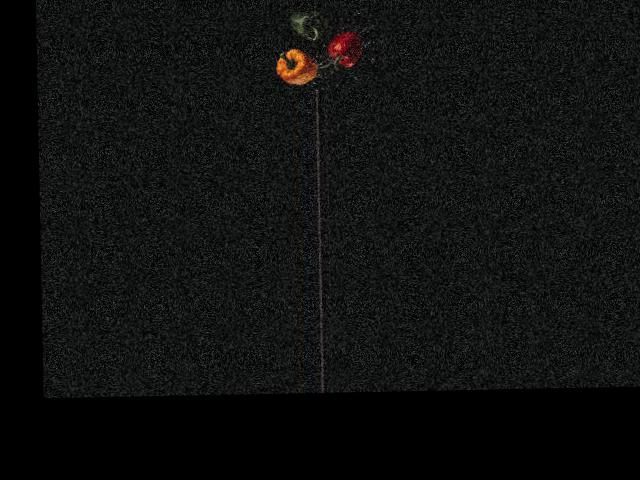bell_pepper: (320, 24, 363, 76)
